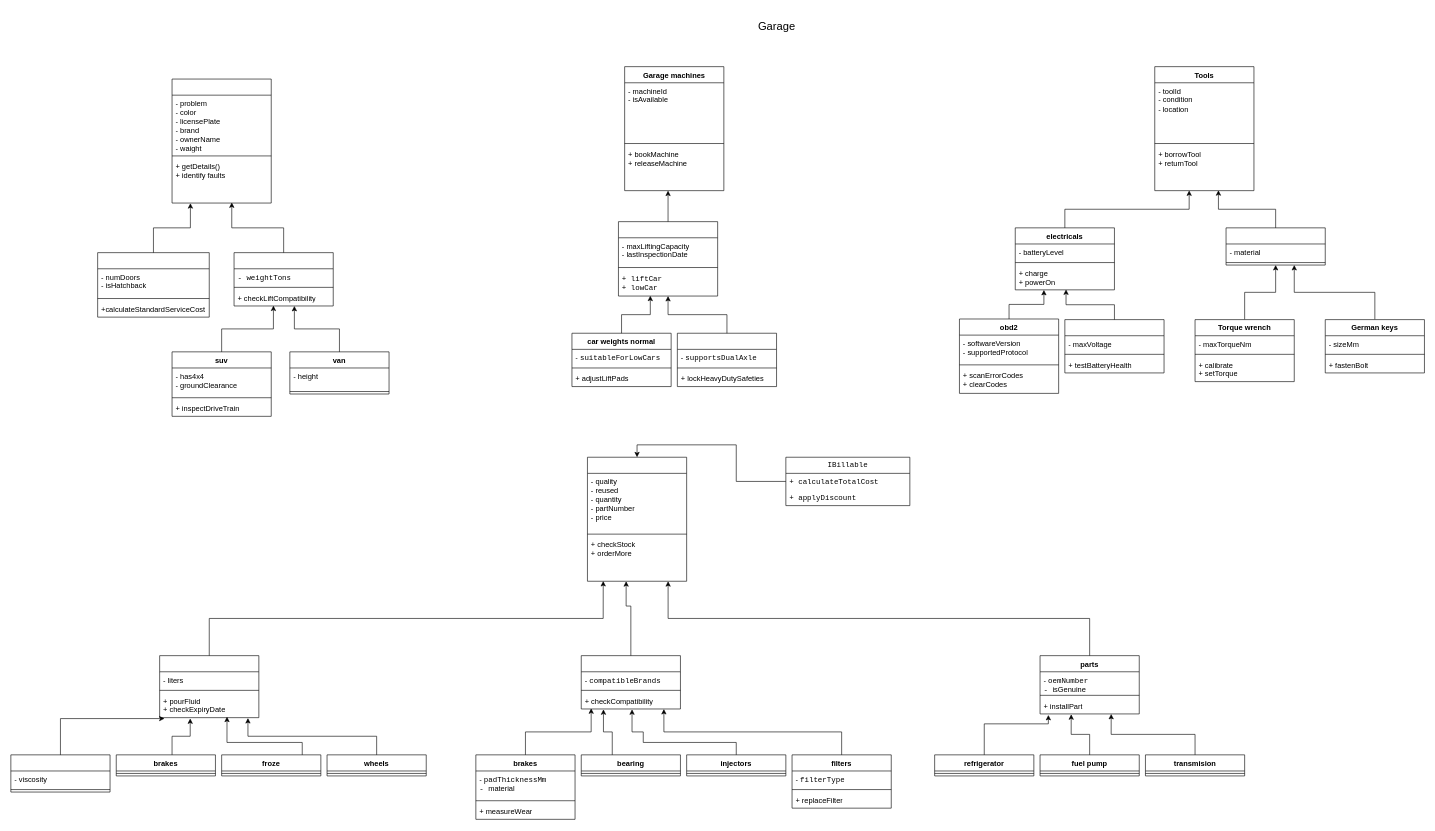
Some shapes in this 1435 by 831 pixel diagram are drawn without their labels. Here are the shapes that lost their labels. From the top down, the box of each, then its label:
(171, 78, 271, 203): Car
(618, 221, 718, 296): car weights
(1225, 227, 1325, 265): mecanical
(97, 252, 209, 317): normal
(233, 252, 333, 306): big
(677, 333, 777, 387): car weights big
(1064, 319, 1164, 373): battery tester
(587, 457, 687, 581): equipment
(159, 655, 259, 718): fluids
(581, 655, 680, 709): universal parts
(10, 754, 110, 792): oils
